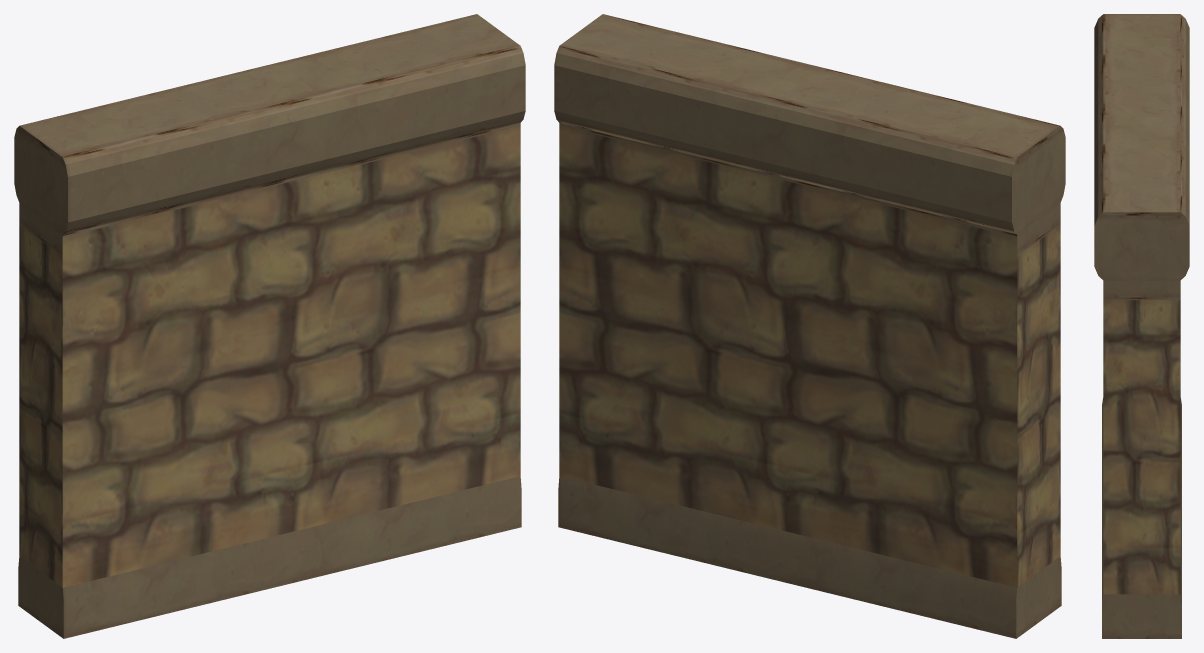
File: Wall.FBX
3 renders of one model, left to right at view 1: azimuth 30°, elevation 25°; view 2: azimuth 150°, elevation 25°; view 3: azimuth 270°, elevation 25°, orthographic. The views are drawn at different scales.
Parts seen in each view (by area): view 1: Wall; view 2: Wall; view 3: Wall.
Part boxes in pixels (x1,y1,x2,y2): Wall: (14,14,525,638); Wall: (554,14,1065,638); Wall: (1094,14,1189,638).
Size of the model in its own units: 199 by 200 by 40.47.
Materials: 1 (1 with a texture image).
